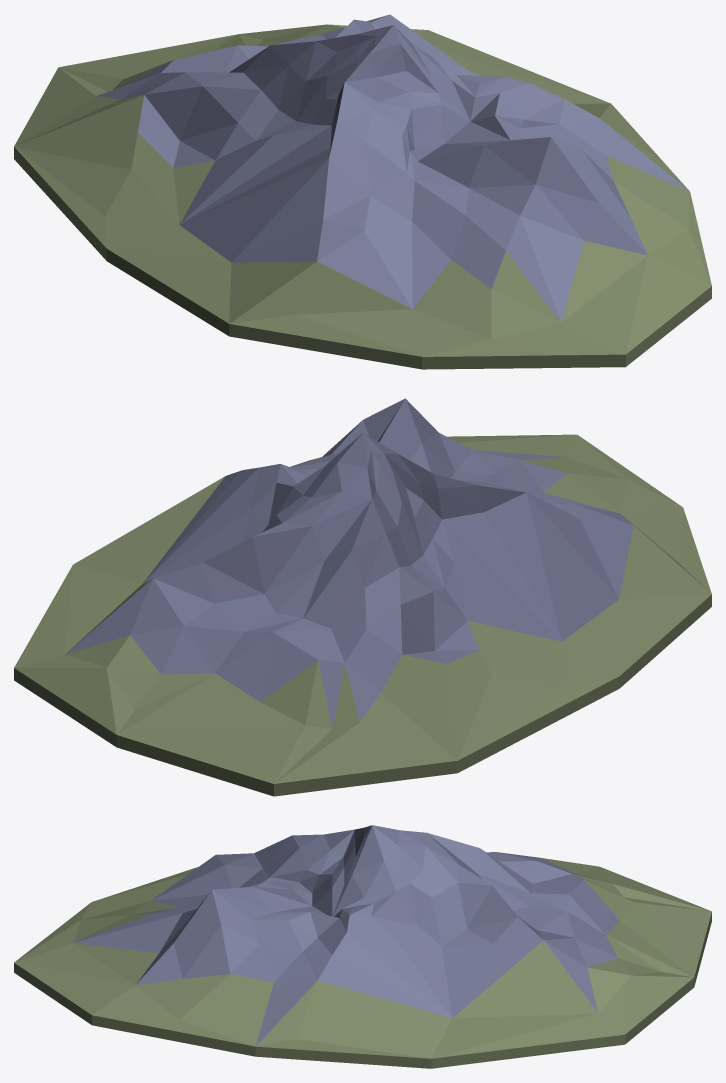
Rendered from massif_cirque_wall.glb.
3 views of the same model, one above another, from view 1: azimuth 30°, elevation 25°; view 2: azimuth 150°, elevation 25°; view 3: azimuth 270°, elevation 25° (orthographic). The views are drawn at different scales.
Parts seen in each view (by area): view 1: massif_cirque_wall; view 2: massif_cirque_wall; view 3: massif_cirque_wall.
Part boxes in pixels (box(x1,y1,x2,y2)): massif_cirque_wall: box(14, 14, 711, 369); massif_cirque_wall: box(14, 398, 711, 796); massif_cirque_wall: box(14, 825, 711, 1068).
Bounding box in the file's own units: 454 × 149 × 651.
